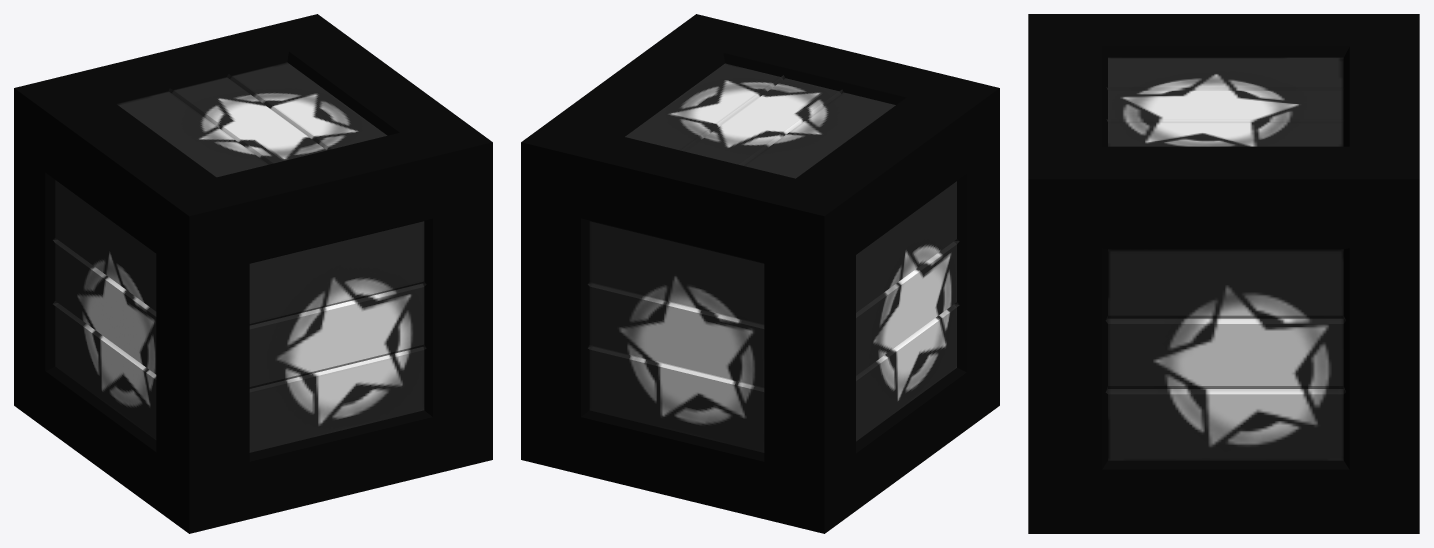
File: mil_crate.glb
3 renders of one model, left to right at view 1: azimuth 30°, elevation 25°; view 2: azimuth 150°, elevation 25°; view 3: azimuth 270°, elevation 25°, orthographic. The views are drawn at different scales.
Visible parts, largest first — view 1: mesh_id5, mesh_id6; view 2: mesh_id5, mesh_id6; view 3: mesh_id5, mesh_id6.
Boxes of the visible parts, x1,y1,x2,y2 form: mesh_id5: (14, 14, 492, 533); mesh_id6: (53, 62, 426, 452); mesh_id5: (521, 14, 999, 533); mesh_id6: (587, 63, 959, 452); mesh_id5: (1028, 14, 1419, 533); mesh_id6: (1105, 57, 1345, 460).
Bounding box in the file's own units: 0.512 × 0.512 × 0.512.
2 materials, 2 textured.
